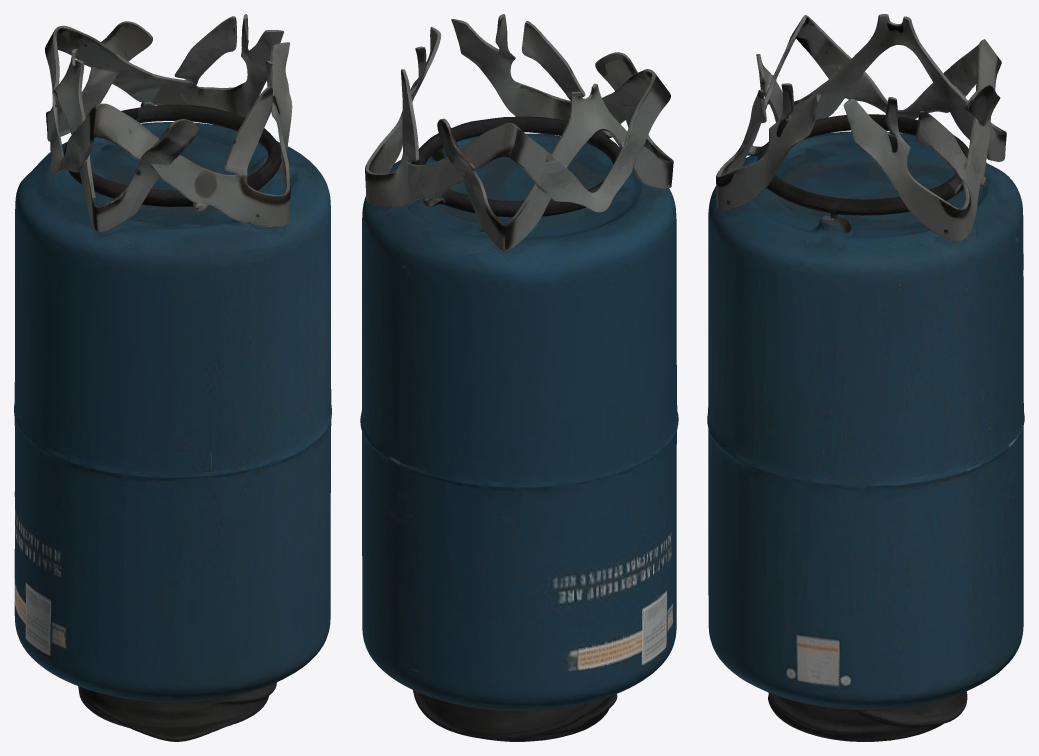
3 renders of one model, left to right at view 1: azimuth 30°, elevation 25°; view 2: azimuth 150°, elevation 25°; view 3: azimuth 270°, elevation 25°, orthographic.
Parts seen in each view (by area): view 1: 0; view 2: 0; view 3: 0.
Part boxes in pixels (left/top/right/bottom): 0: left=14, top=14, right=331, bottom=741; 0: left=360, top=14, right=678, bottom=741; 0: left=707, top=14, right=1024, bottom=741.
Bounding box in the file's own units: 0.6362 × 1.46 × 0.6351.
1 material, 1 textured.
